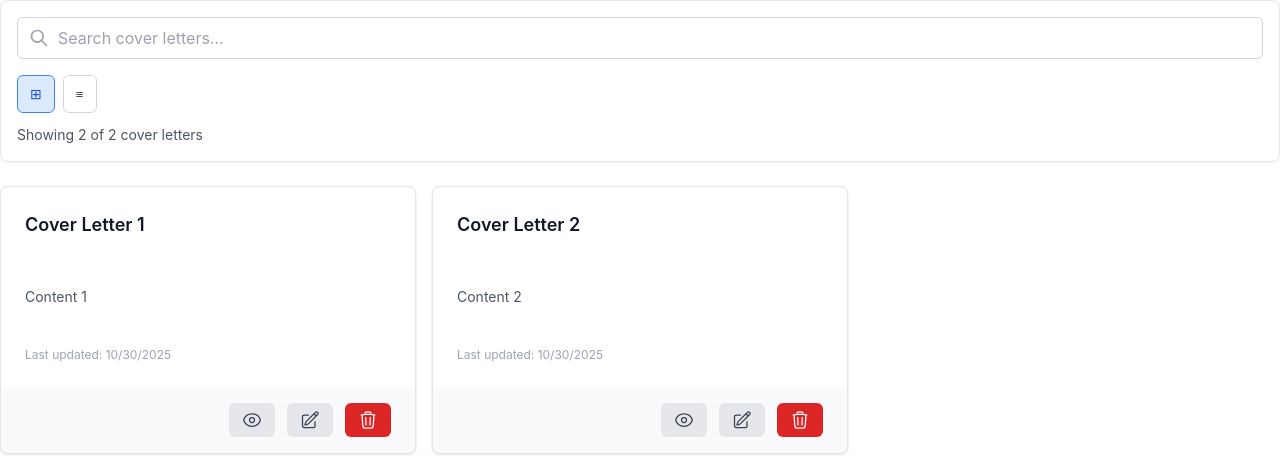
CoverLetterList › filters the list by search term
Type "Cover Letter 1" into the field with placeholder "Search cover letters...".
click(640, 38); type("Cover Letter 1")  # box [17,17,1263,59]
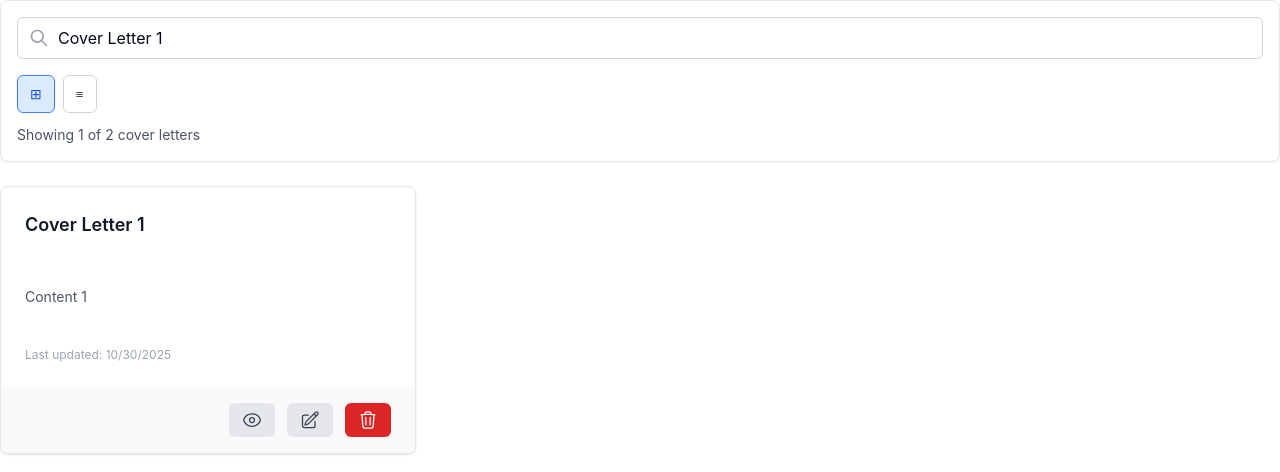
Expected: the heading "Cover Letter 1" is shown, [25,214,145,235]
Result: the heading "Cover Letter 2" is gone
